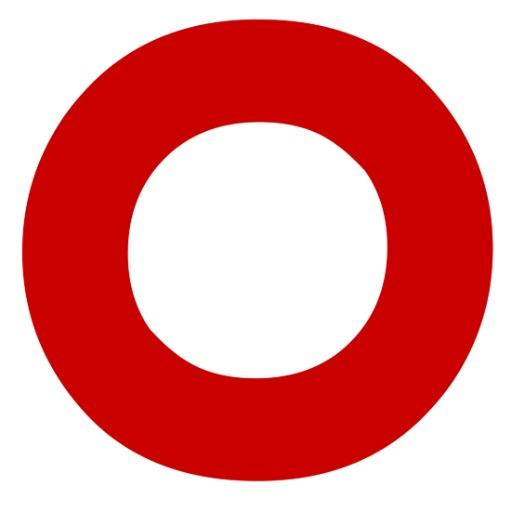circulo: (21, 19, 493, 483)
